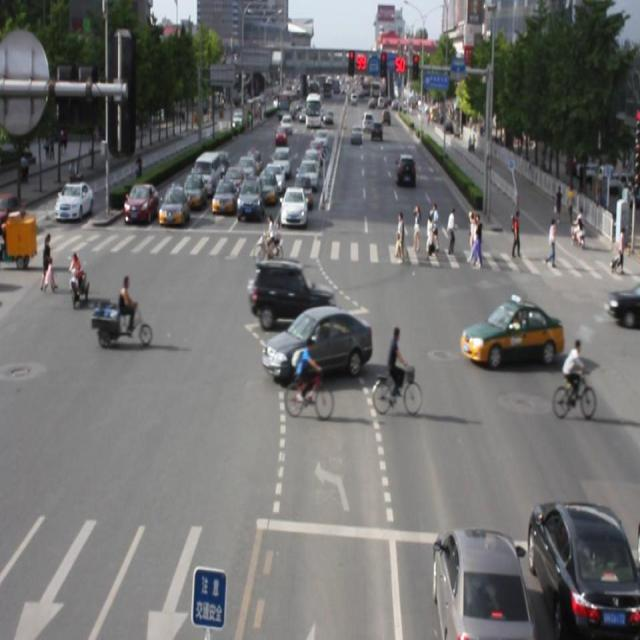car: (523, 495, 640, 640), (429, 524, 530, 640), (259, 304, 373, 381), (458, 295, 563, 371), (248, 256, 337, 326)
